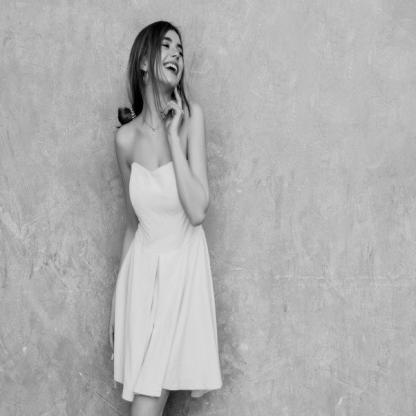jacket: (108, 98, 219, 407)
